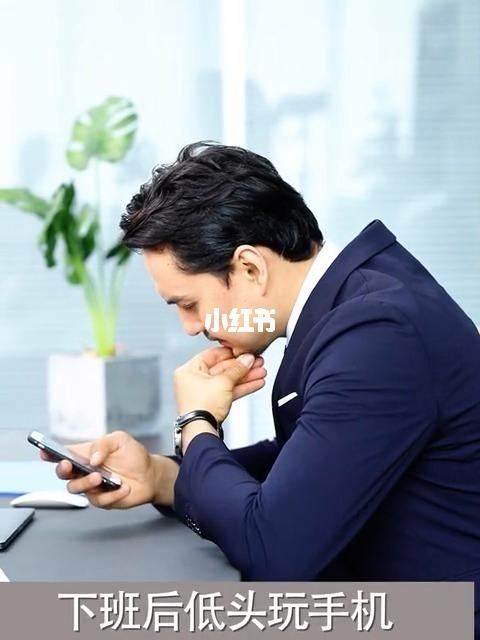reading: (24, 423, 164, 512)
